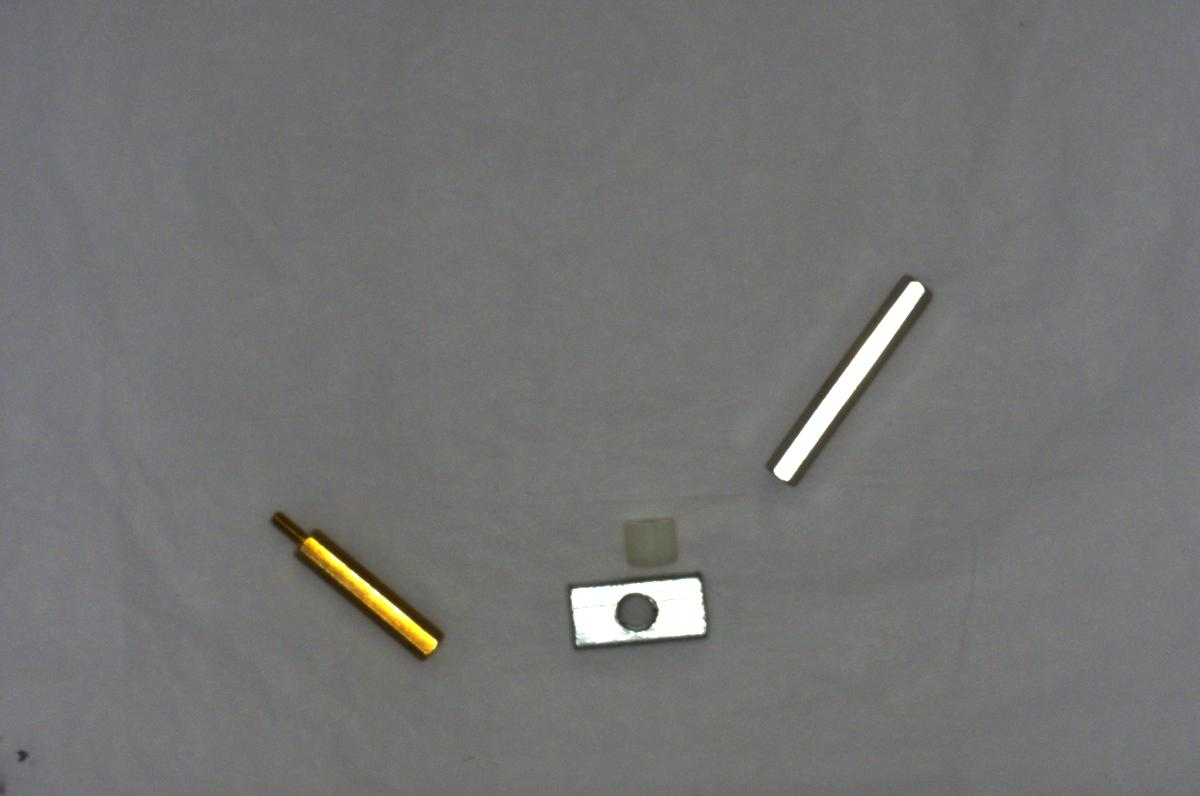Double hexagonal column: (755, 269, 937, 485)
Hexagon pillar: (264, 506, 445, 663)
Plastic cushion pillar: (613, 509, 684, 574)
Rectangular nut: (565, 567, 719, 663)
